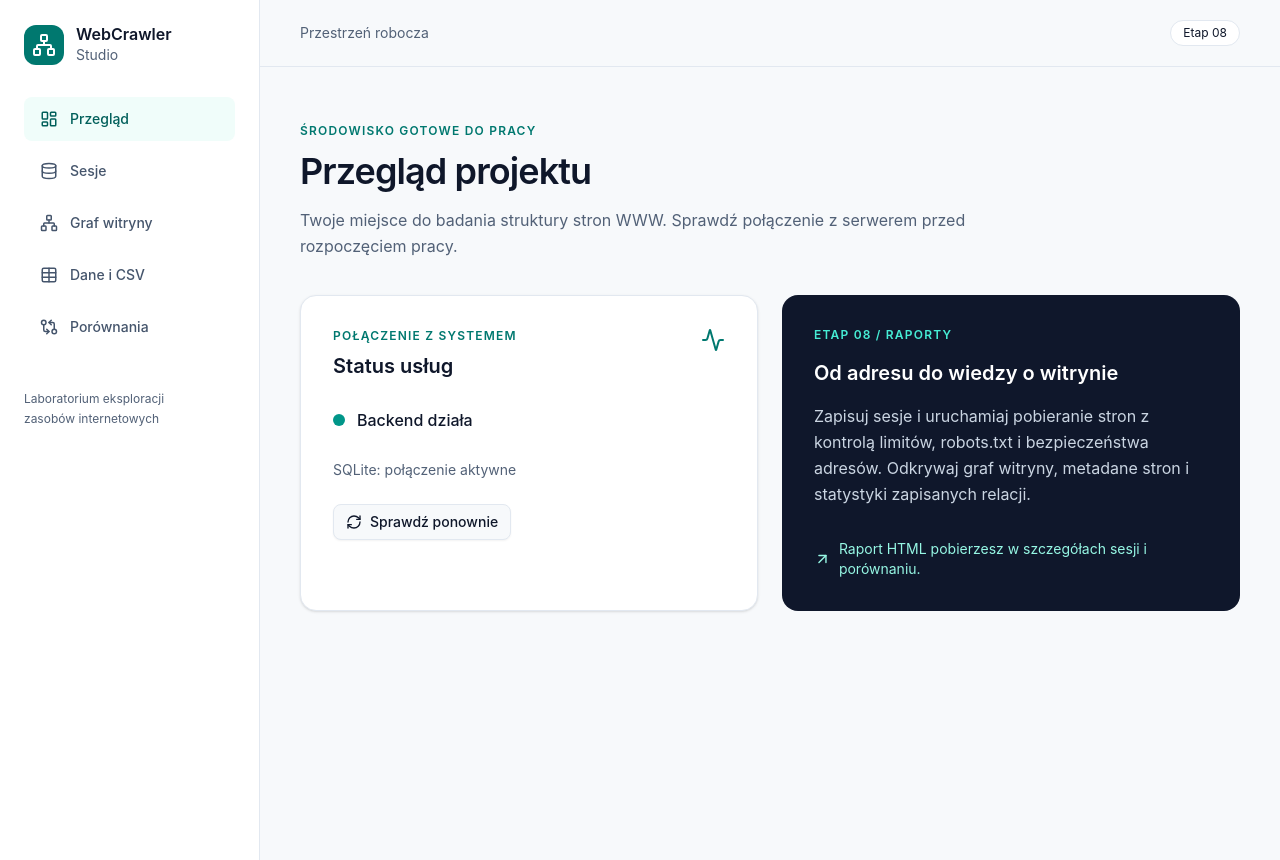
Test: bootstrap UI › navigation opens implemented views, without fake metrics
expect the text "Backend działa" is shown: met, box [357,408,473,432]
Click the link "Sesje" at (73, 171), box [40,162,107,180]
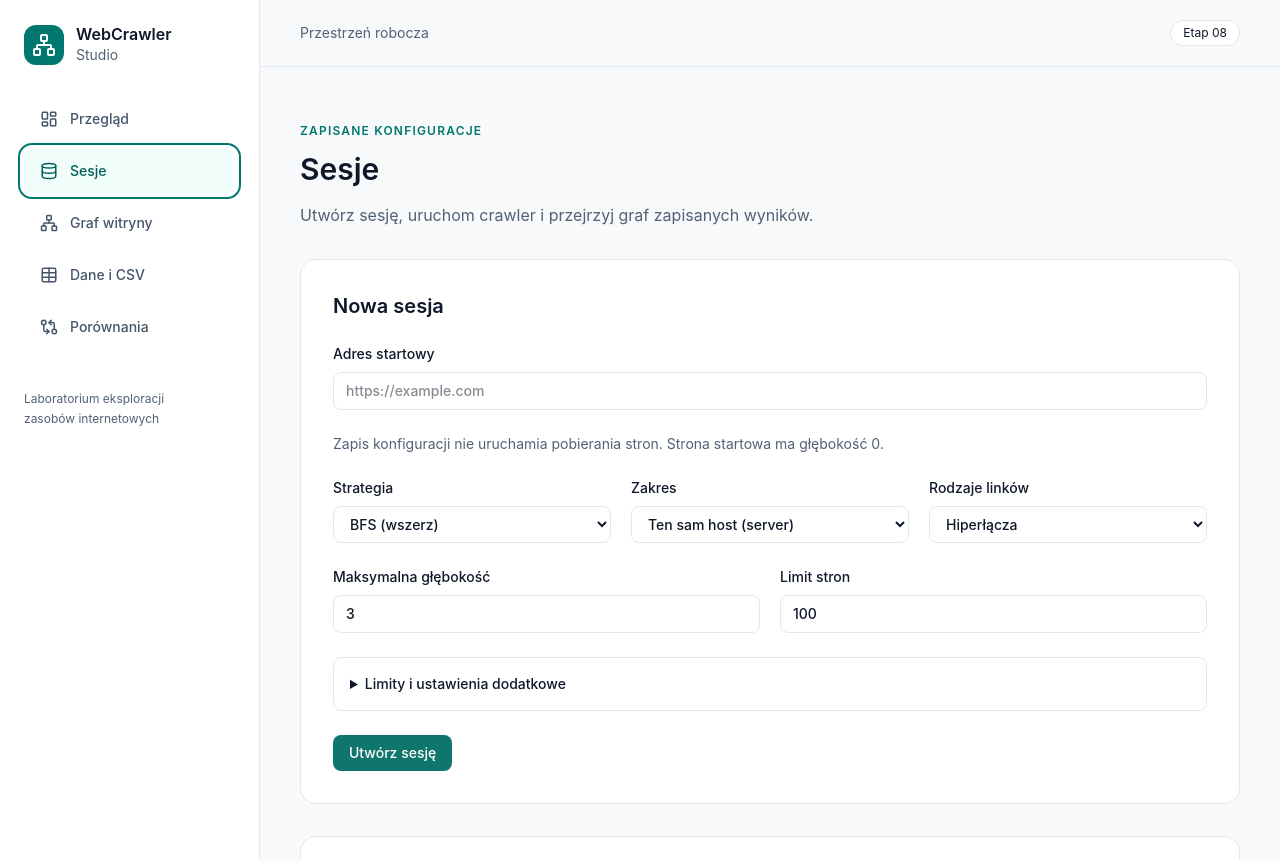
expect the heading "Sesje" is shown: met, box [300,151,379,187]
expect the heading "Nowa sesja" is shown: met, box [333,294,444,318]
Click the link "Graf witryny" at (96, 223), box [40,214,153,232]
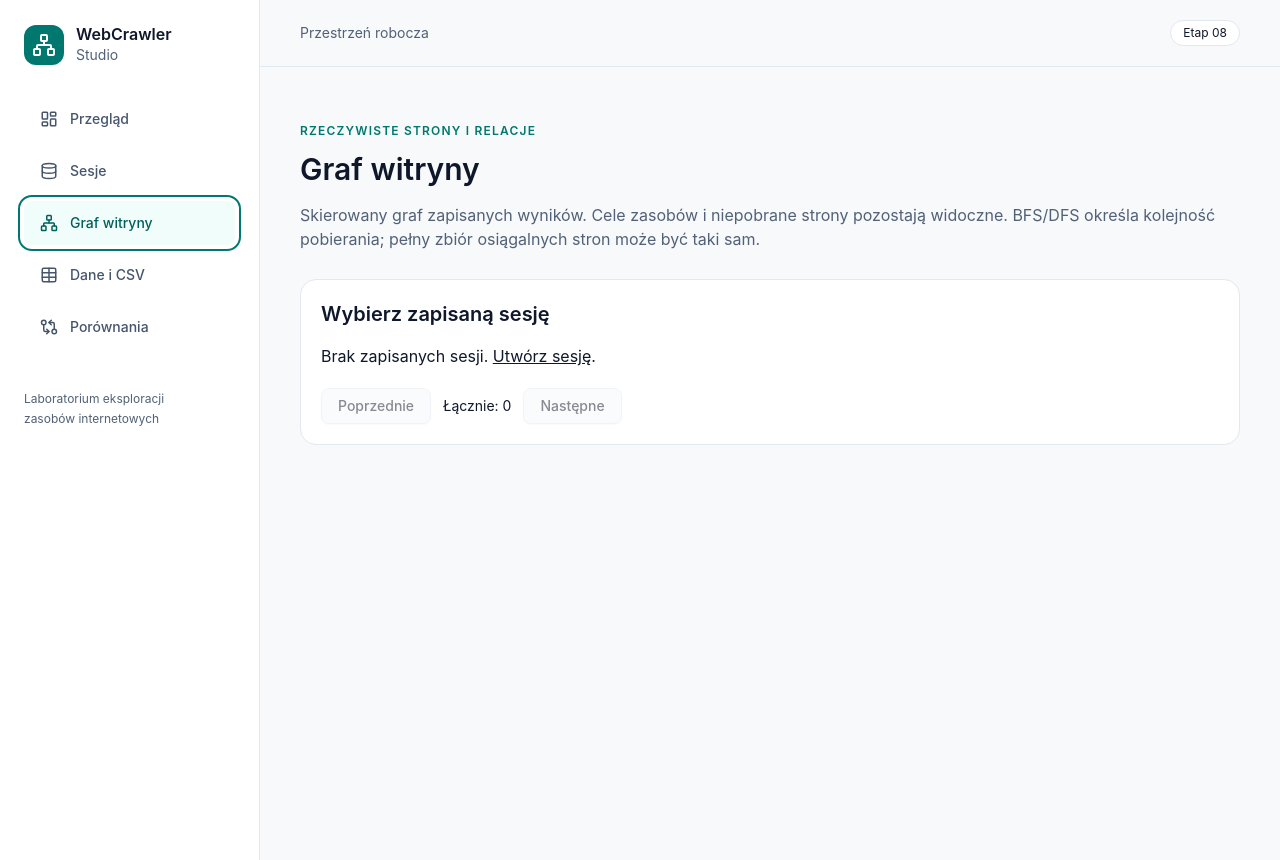
expect the heading "Graf witryny" is shown: met, box [300,151,480,187]
Click the link "Porównania" at (94, 327), box [40,318,149,336]
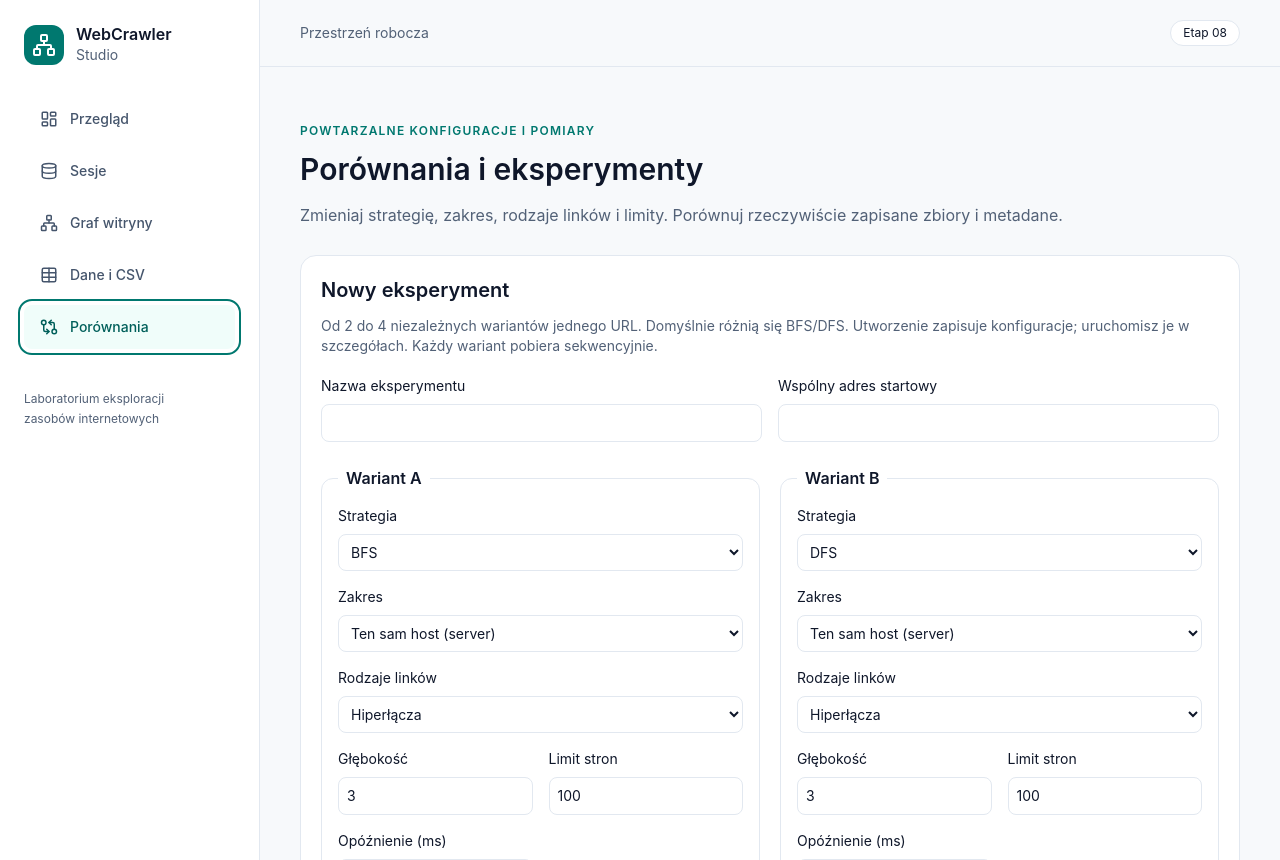
expect the heading "Porównania i eksperymenty" is shown: met, box [300,151,703,187]
